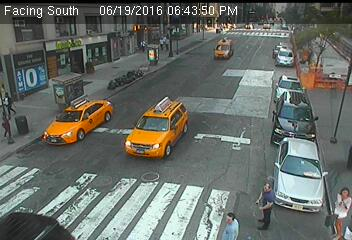neg: (138, 54, 159, 83), (73, 110, 93, 137), (12, 112, 31, 137), (277, 190, 295, 214), (195, 27, 213, 51), (86, 54, 99, 72), (165, 49, 177, 66)
pos: (246, 177, 288, 232), (324, 184, 351, 237), (218, 204, 244, 238)
